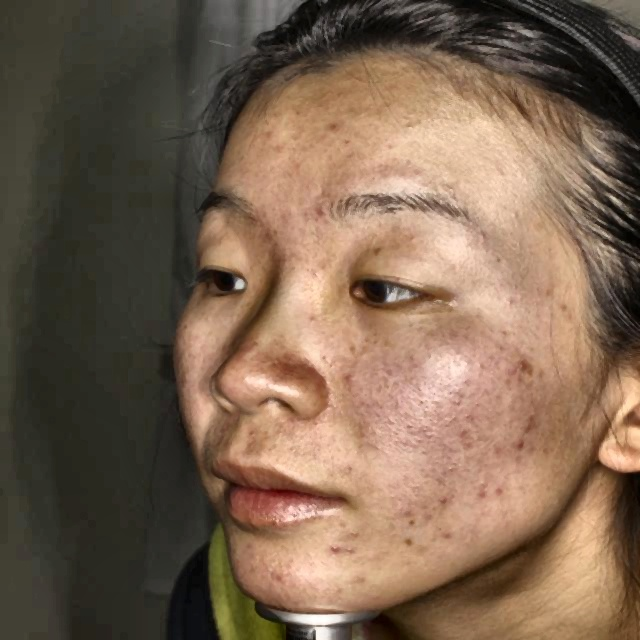pustule: (467, 479, 519, 502), (318, 537, 359, 559), (399, 502, 439, 524), (505, 432, 544, 451), (514, 343, 533, 373), (440, 527, 459, 549)
